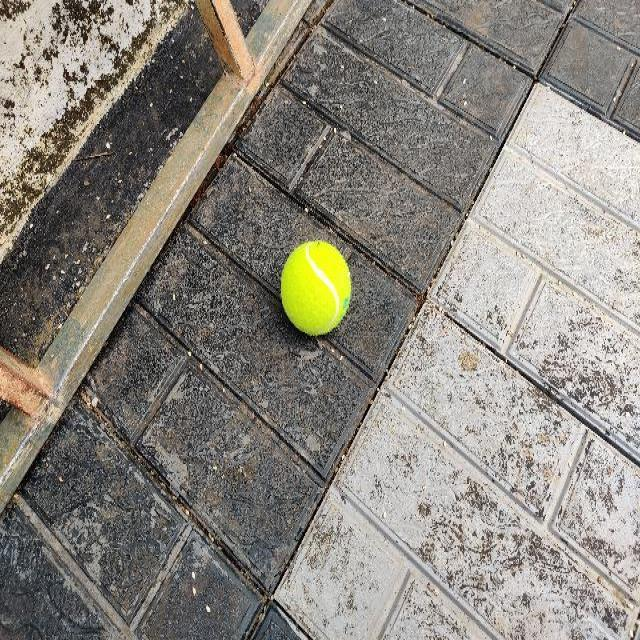tennis-ball: (278, 239, 352, 335)
